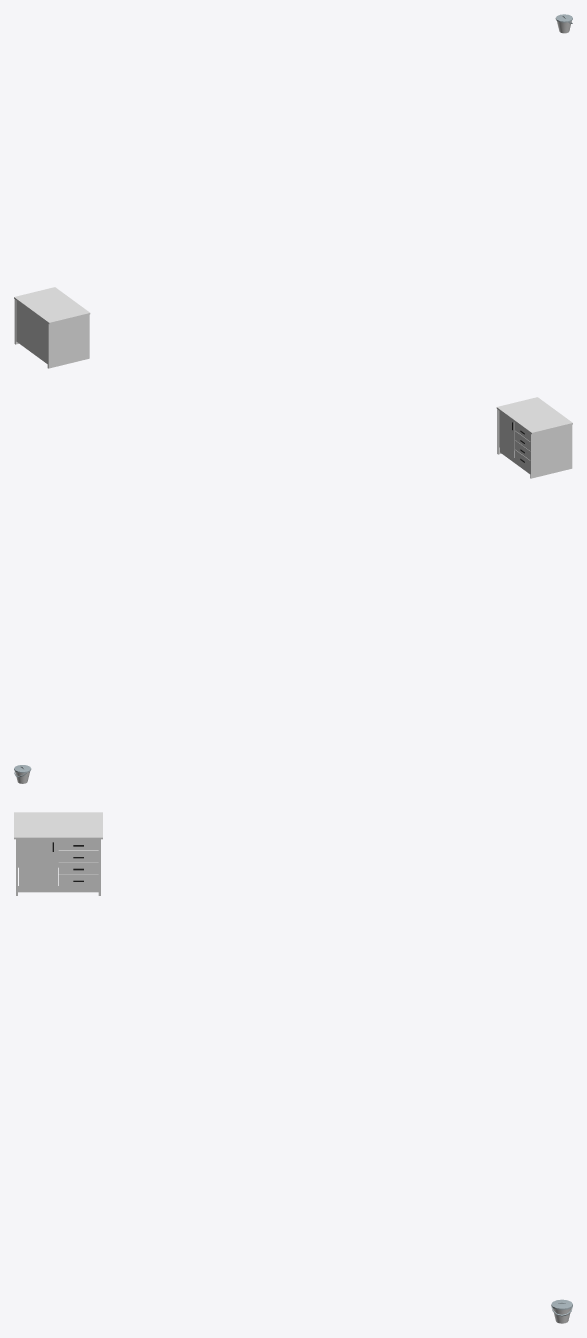
The model's file is low_poly_guizi02.fbx.
3 renders of one model, top to bottom at view 1: azimuth 30°, elevation 25°; view 2: azimuth 210°, elevation 25°; view 3: azimuth 270°, elevation 25°, orthographic. The views are drawn at different scales.
Parts seen in each view (by area): view 1: low_poly_interior.211; view 2: low_poly_interior.211; view 3: low_poly_interior.211.
Part boxes in pixels (x1=…): low_poly_interior.211: x1=14, y1=287, x2=90, y2=368; low_poly_interior.211: x1=496, y1=397, x2=572, y2=478; low_poly_interior.211: x1=14, y1=812, x2=102, y2=895.
Bounding box in the file's own units: 1101 × 66.17 × 572.
1 material, 1 textured.
